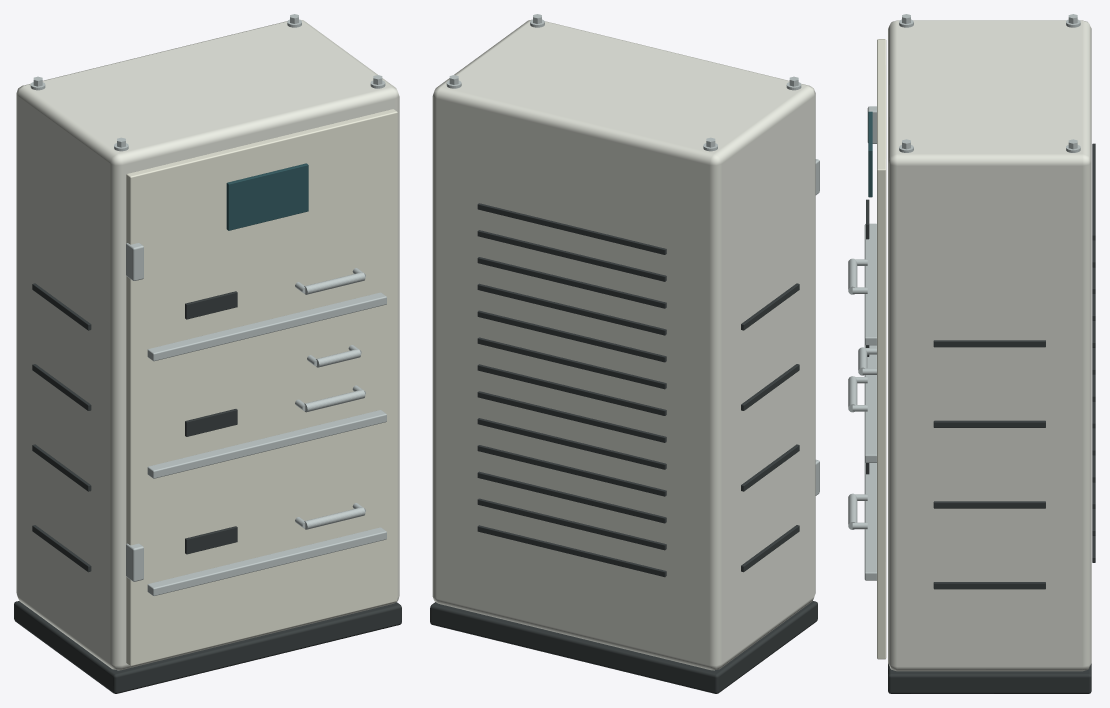
File: generation-ship-hydroponics-generation-ship-hydroponic-54a1181e__31500.glb
3 renders of one model, left to right at view 1: azimuth 30°, elevation 25°; view 2: azimuth 150°, elevation 25°; view 3: azimuth 270°, elevation 25°, orthographic.
Parts seen in each view (by area): view 1: generation-ship-hydroponics-seed-archive-cabinet; view 2: generation-ship-hydroponics-seed-archive-cabinet; view 3: generation-ship-hydroponics-seed-archive-cabinet.
Part boxes in pixels (x1=…): generation-ship-hydroponics-seed-archive-cabinet: x1=14, y1=14, x2=401, y2=693; generation-ship-hydroponics-seed-archive-cabinet: x1=430, y1=14, x2=819, y2=693; generation-ship-hydroponics-seed-archive-cabinet: x1=848, y1=14, x2=1095, y2=693.
Bounding box in the file's own units: 0.922 × 1.62 × 0.6675.
